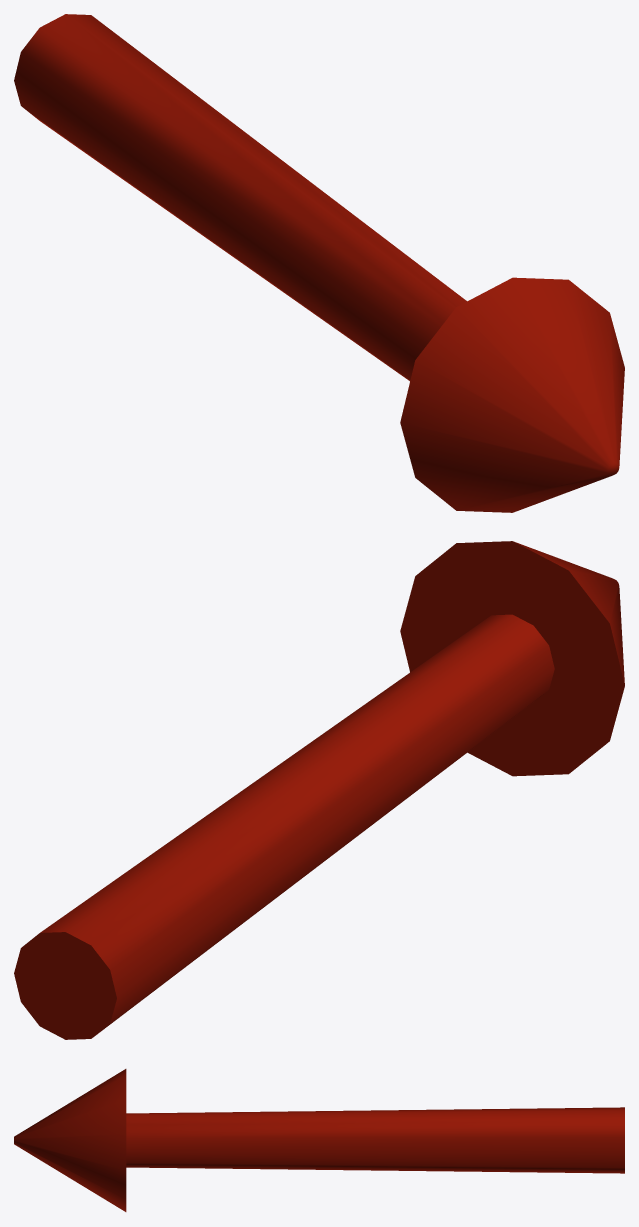
File: Arrow.fbx
The picture shows the model from 3 angles, top to bottom: view 1: azimuth 30°, elevation 25°; view 2: azimuth 150°, elevation 25°; view 3: azimuth 270°, elevation 25°; orthographic projection. The views are drawn at different scales.
Parts seen in each view (by area): view 1: Arrow; view 2: Arrow; view 3: Arrow.
Boxes of the visible parts, left/top/right/bottom form: Arrow: left=14, top=14, right=624, bottom=512; Arrow: left=14, top=541, right=624, bottom=1039; Arrow: left=14, top=1069, right=624, bottom=1211.
Size of the model in its own units: 1.1 by 1.1 by 4.65.
